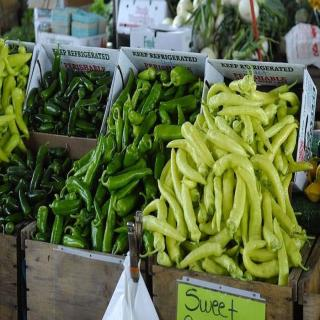Cabai Hijau: (140, 67, 315, 287)
